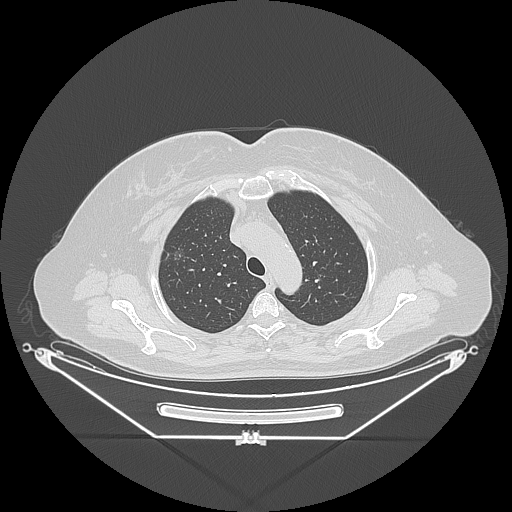nodule: (173, 250, 184, 260)
